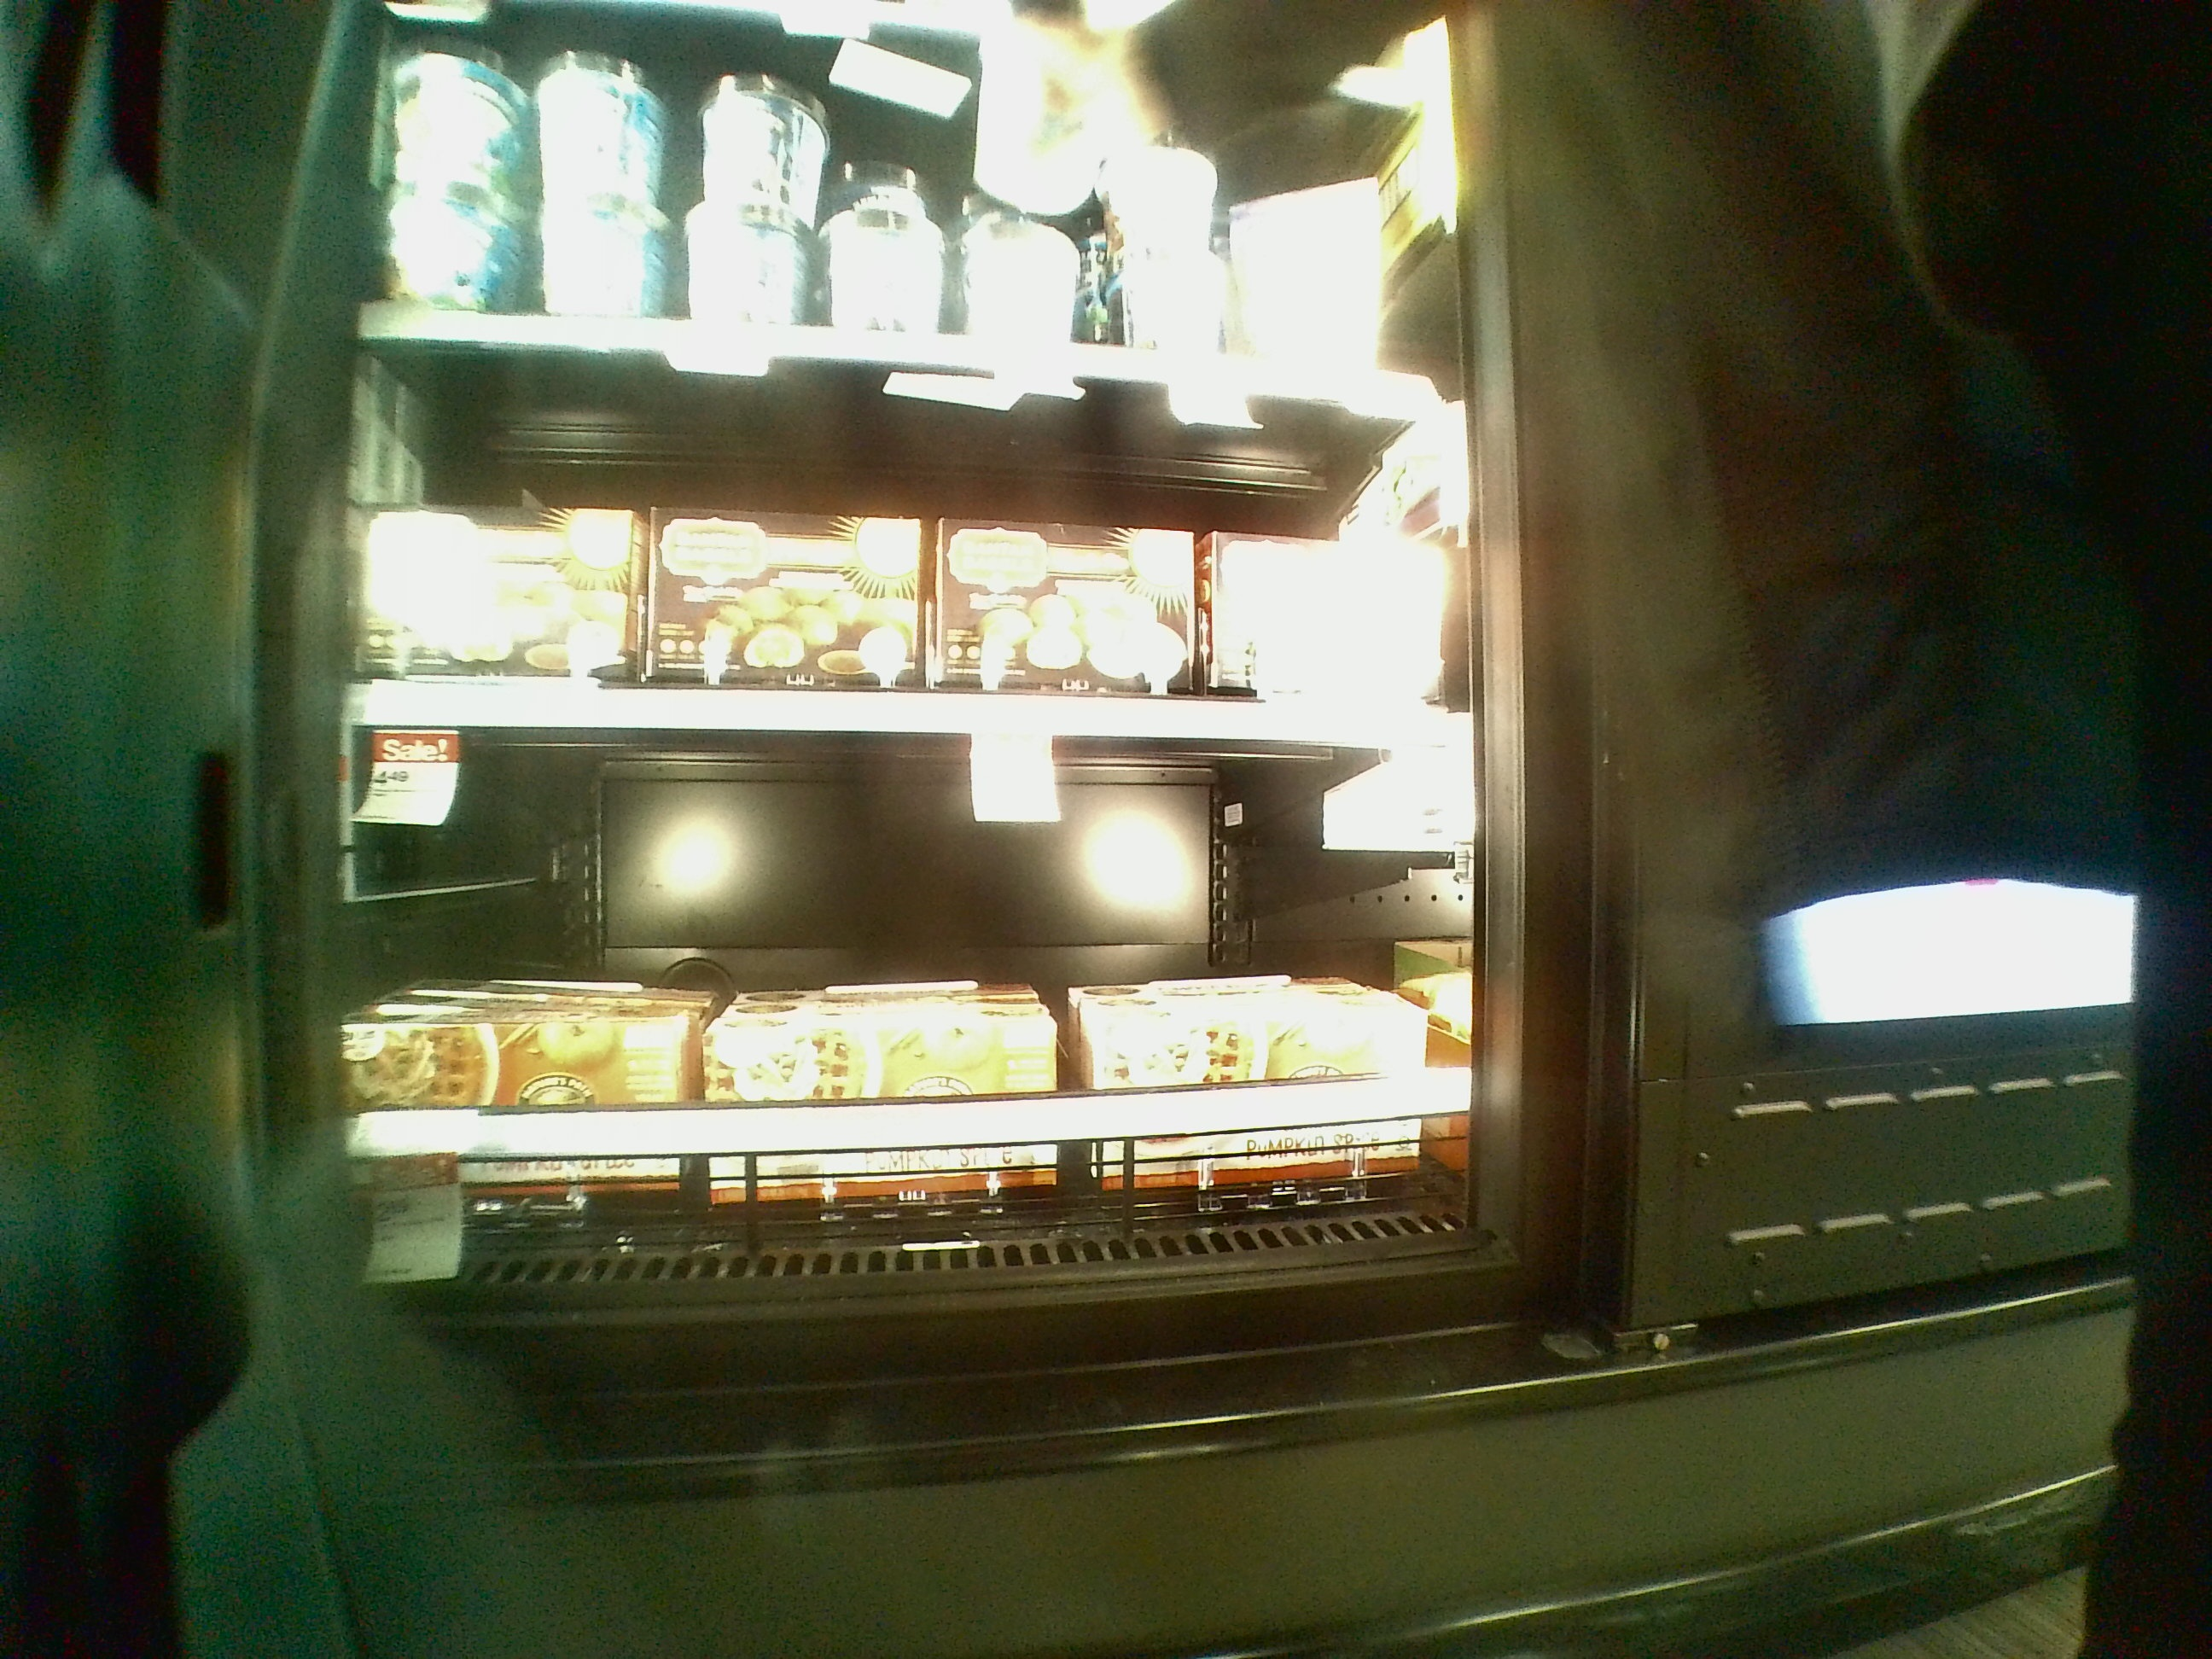shelf: (334, 716, 1493, 1218), (340, 333, 1489, 753)
